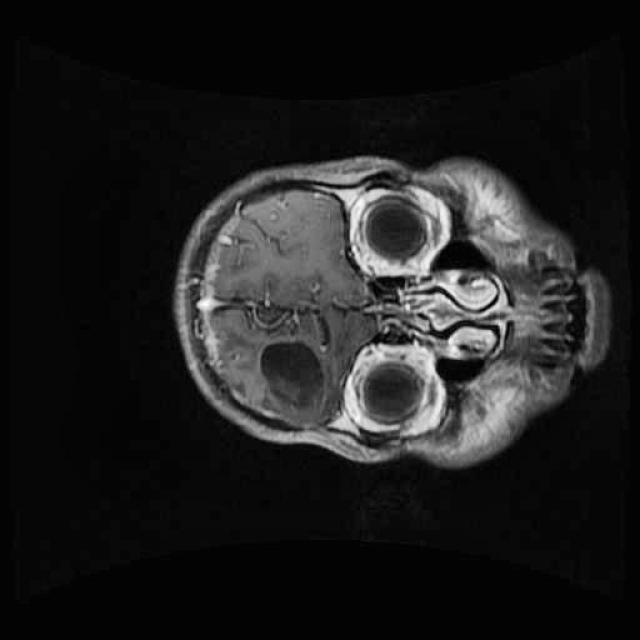Tumor: (252, 327, 338, 432)
